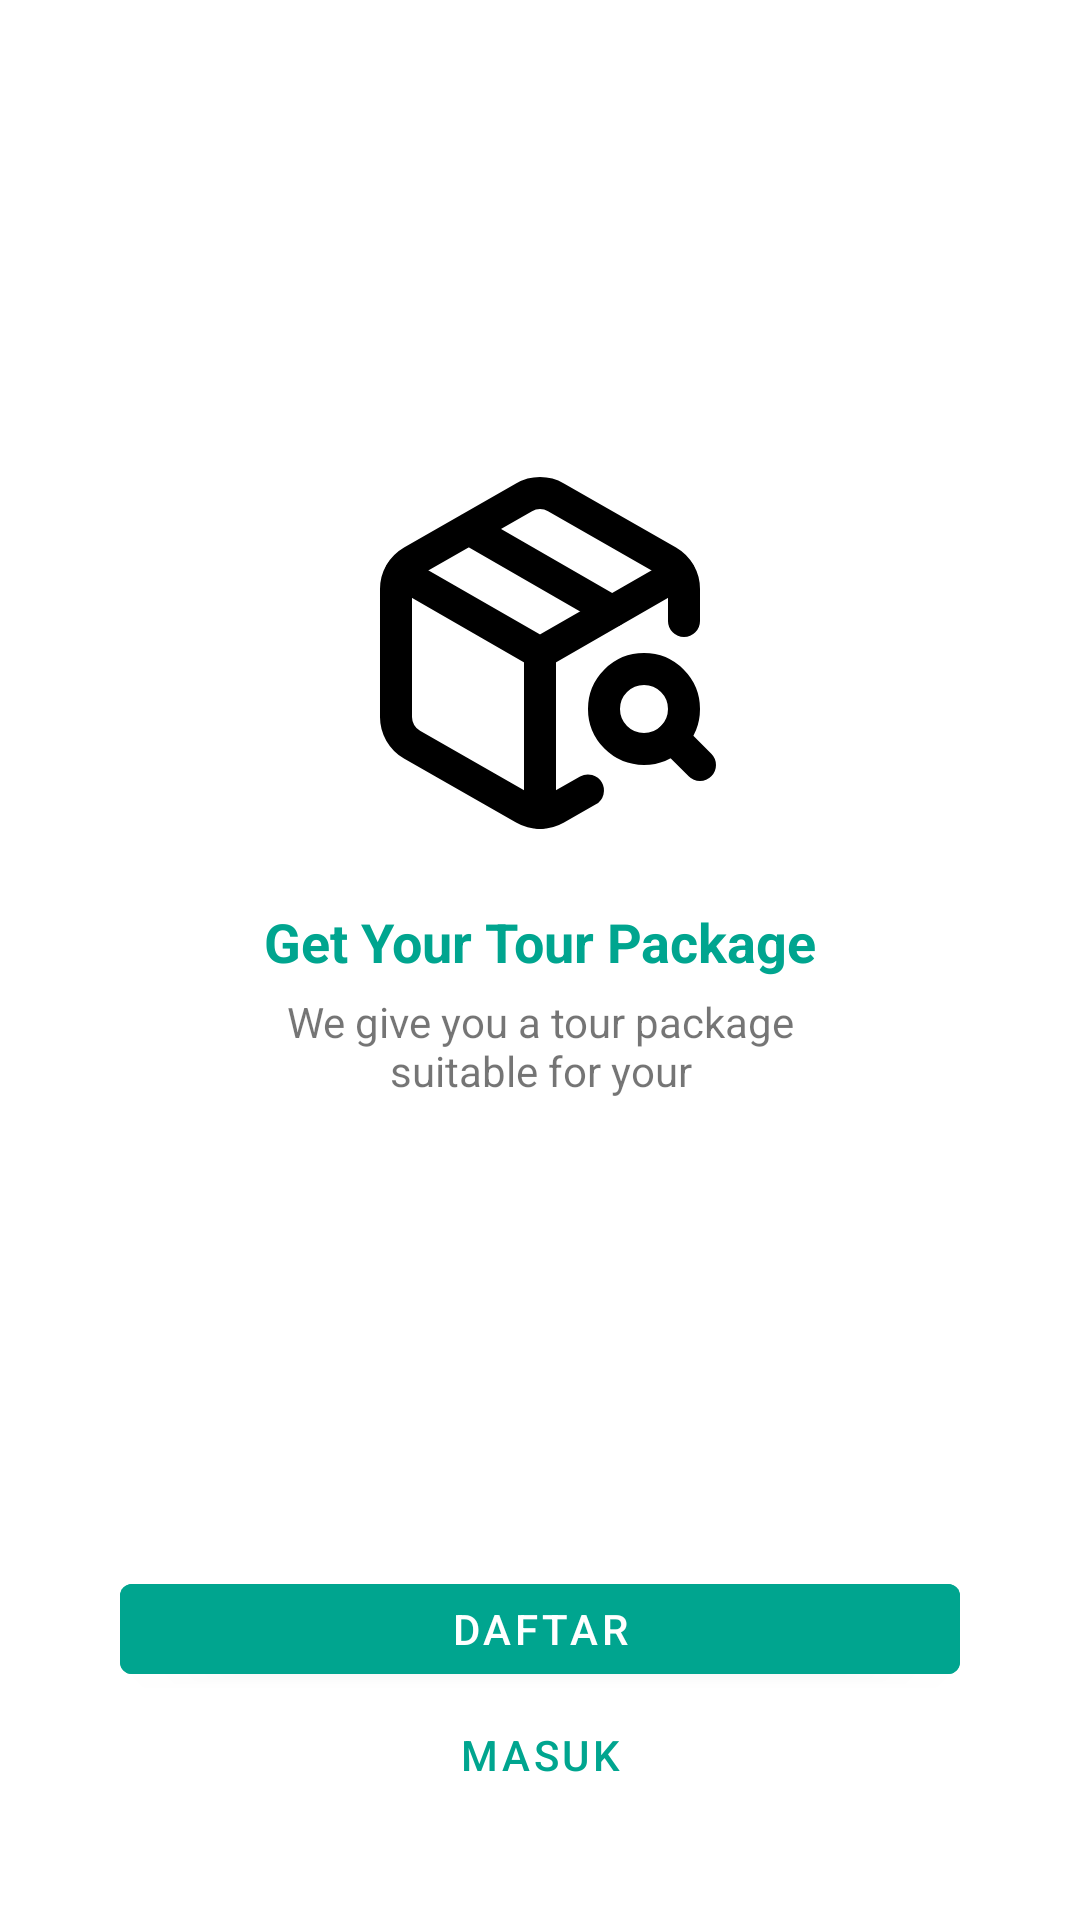

Icon bounding boxes for this 1080w x 1920h phone screenshot, format box(x1, y1, x2, y2):
package search: box(380, 477, 716, 829)
